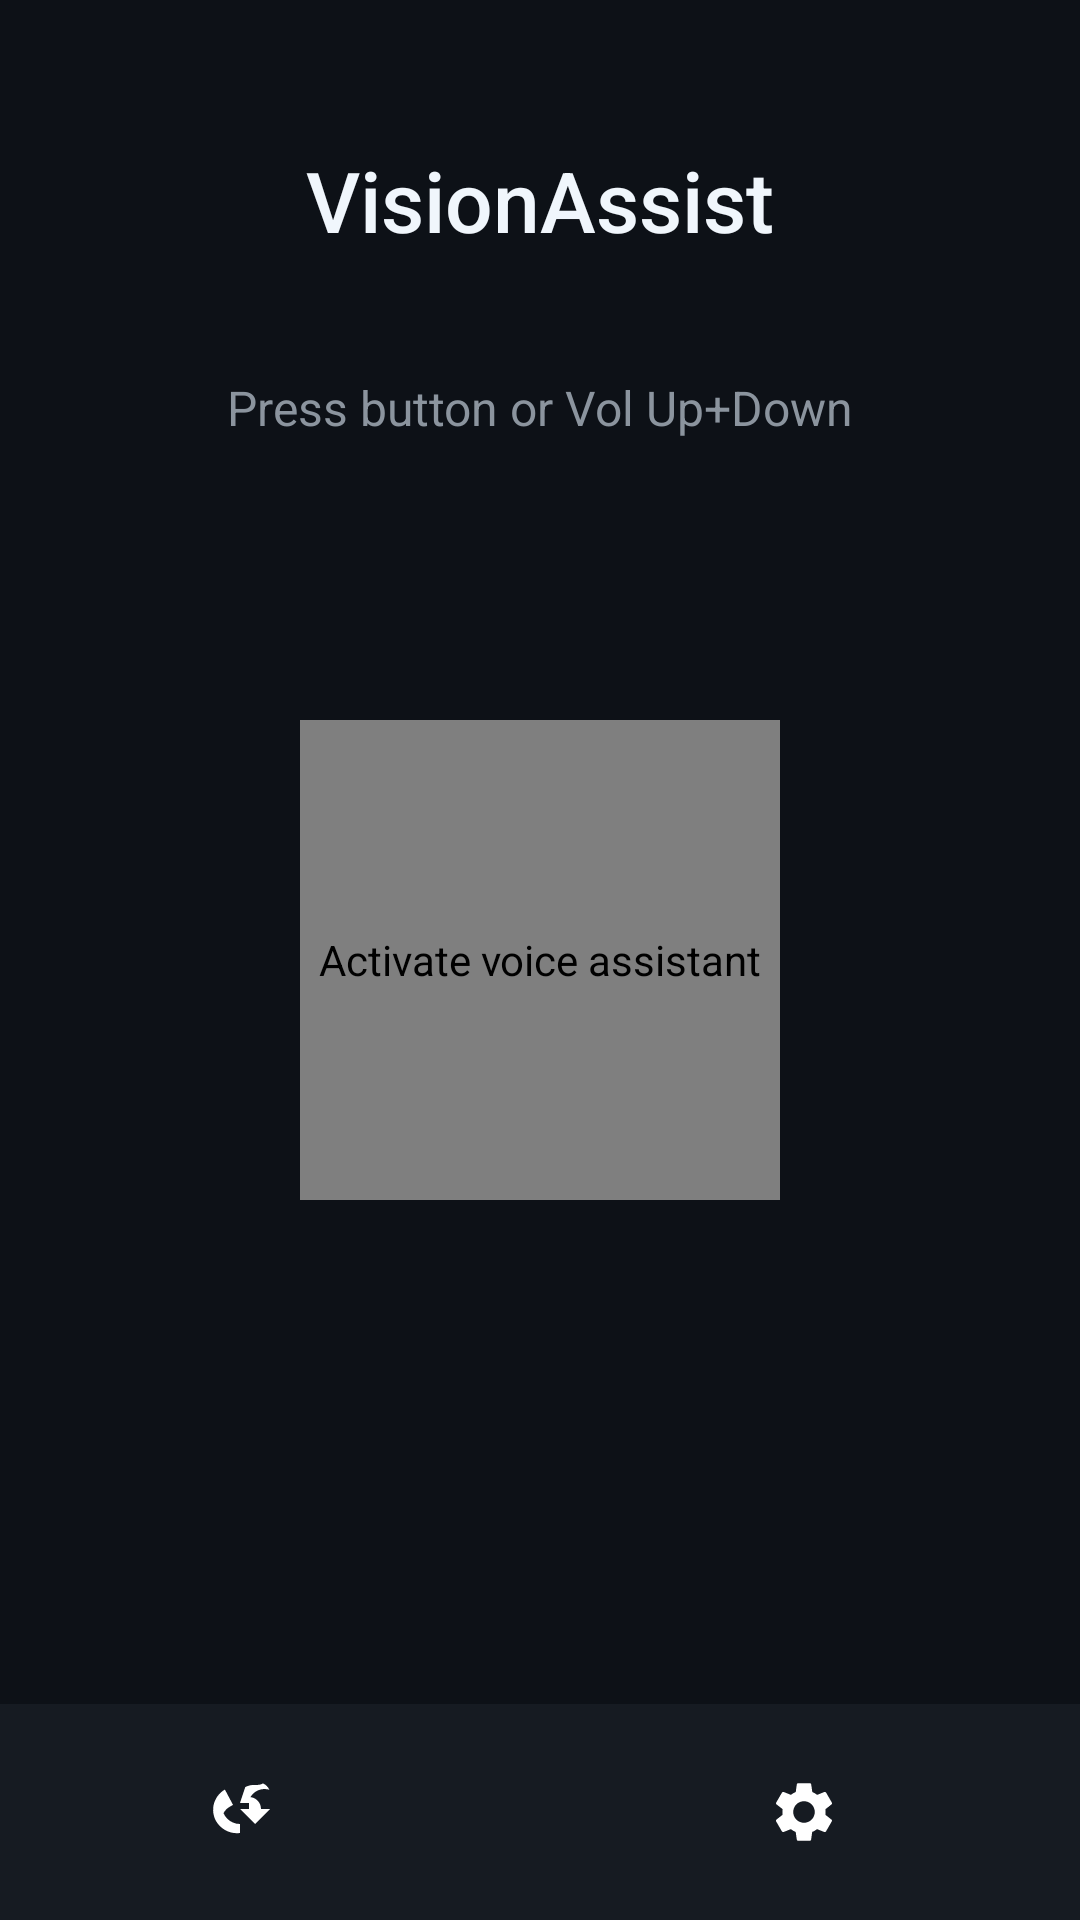

Icon click points for this 1080x1920 phone screenshot, format (x,y):
Open settings: (804,1812)
